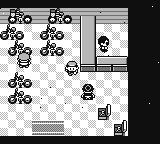leer: (9, 71, 32, 89), (40, 24, 63, 40), (1, 24, 24, 40), (9, 41, 32, 55), (9, 89, 31, 103), (41, 42, 63, 55)
main: (65, 62, 78, 75)
no-caminable: (0, 0, 159, 143), (0, 7, 128, 24), (80, 16, 96, 72), (97, 57, 127, 71), (113, 120, 128, 135), (98, 105, 110, 119)
npc: (81, 84, 94, 100), (17, 53, 31, 67), (98, 36, 110, 52)
puerta: (28, 120, 67, 135)
